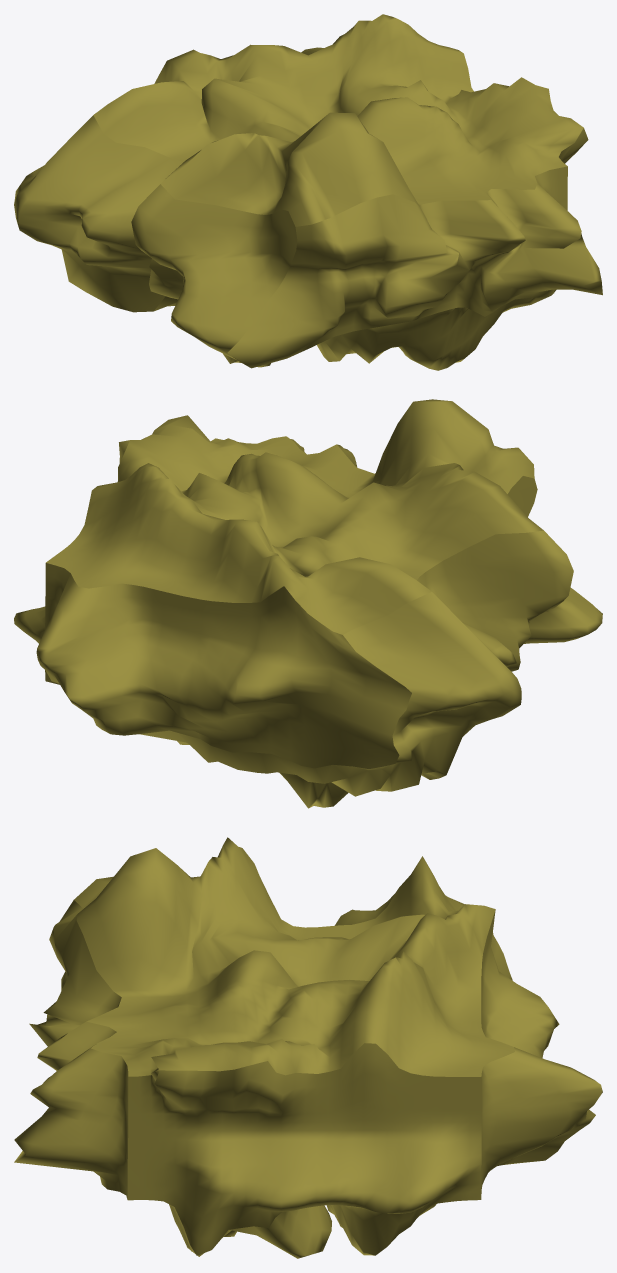
Rendered from fol_rock_02.fbx.
3 views of the same model, one above another, from view 1: azimuth 30°, elevation 25°; view 2: azimuth 150°, elevation 25°; view 3: azimuth 270°, elevation 25° (orthographic). The views are drawn at different scales.
Parts seen in each view (by area): view 1: rock02; view 2: rock02; view 3: rock02.
Boxes of the visible parts, x1,y1,x2,y2 form: rock02: [14, 14, 602, 370]; rock02: [14, 399, 602, 808]; rock02: [14, 837, 602, 1258].
Size of the model in its own units: 9.06 by 5.87 by 8.8.
